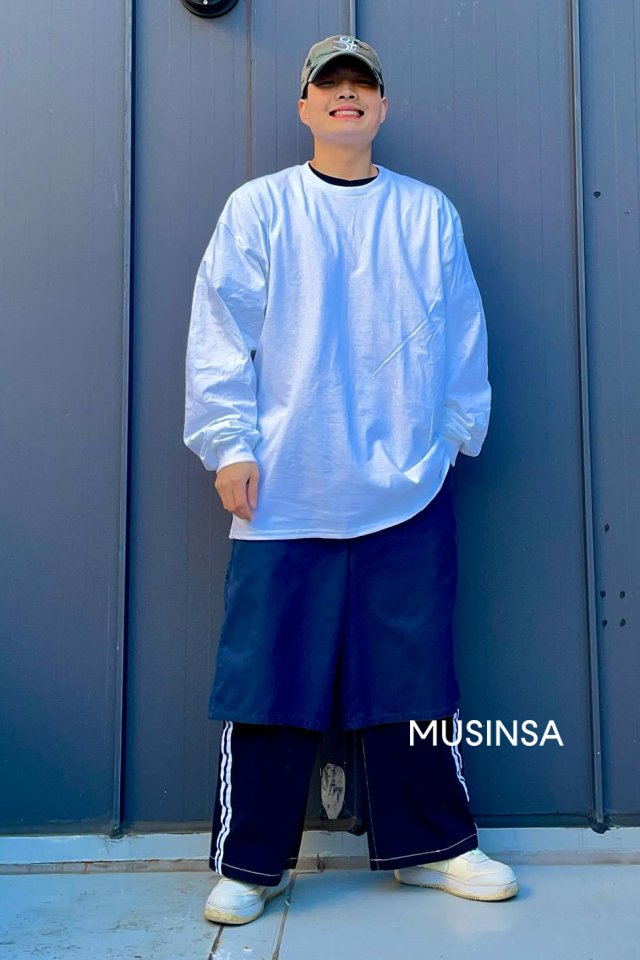Cap: (291, 31, 390, 83)
Pants: (207, 525, 493, 869)
Shoes: (201, 846, 532, 928)
Top: (173, 147, 500, 532)
